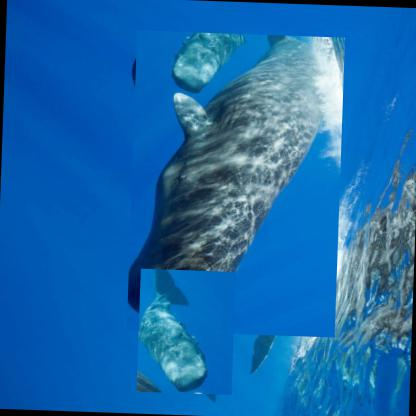sperm_whale: (126, 28, 345, 336), (136, 267, 236, 394)
